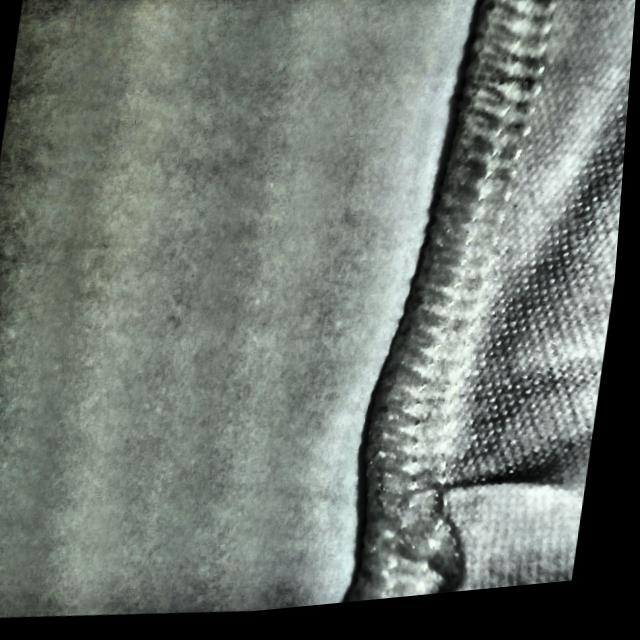seam: (339, 414, 566, 601)
